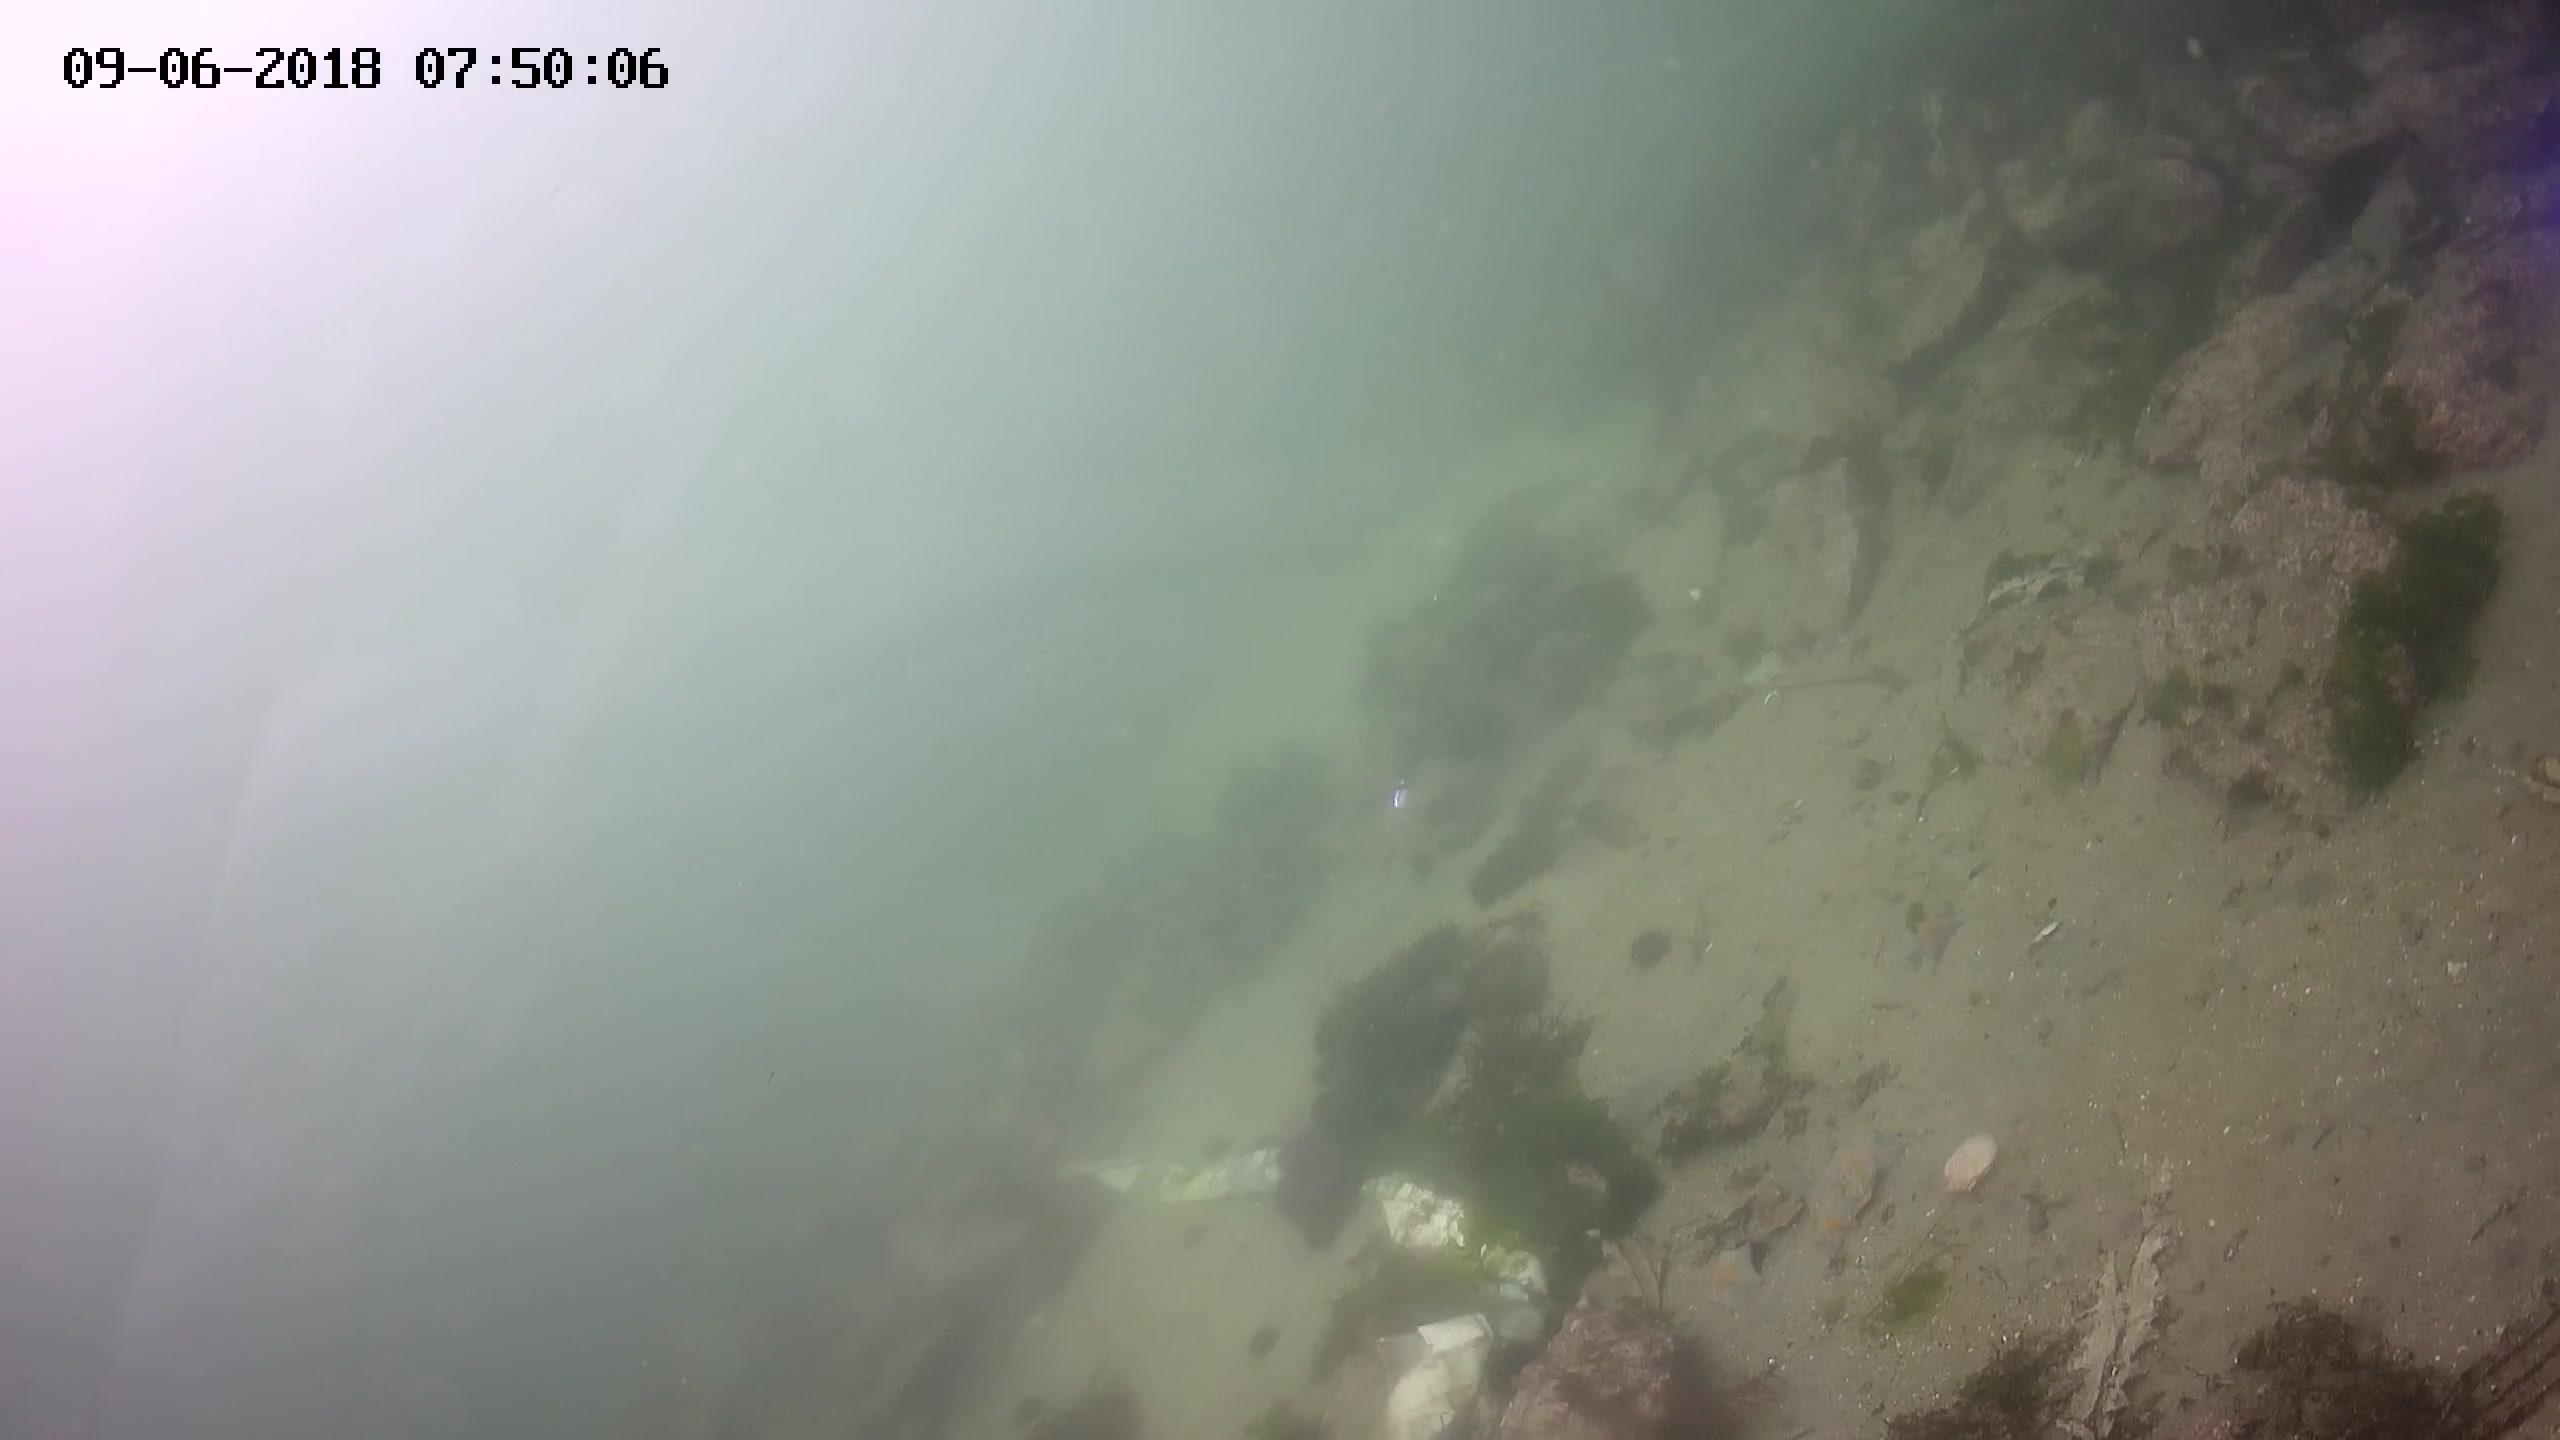echinus: (1626, 925, 1667, 969)
scallop: (1936, 1129, 1992, 1189), (1749, 1189, 1793, 1233)
starfish: (1802, 1138, 1909, 1229), (1904, 897, 1962, 964), (1700, 1255, 1762, 1301)
